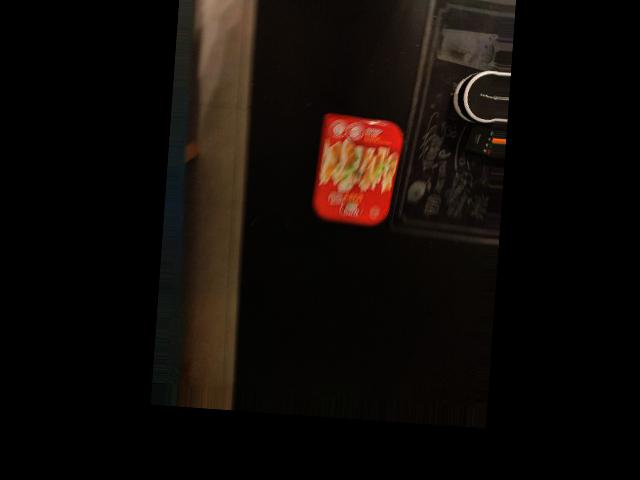cheese: (309, 112, 405, 228)
